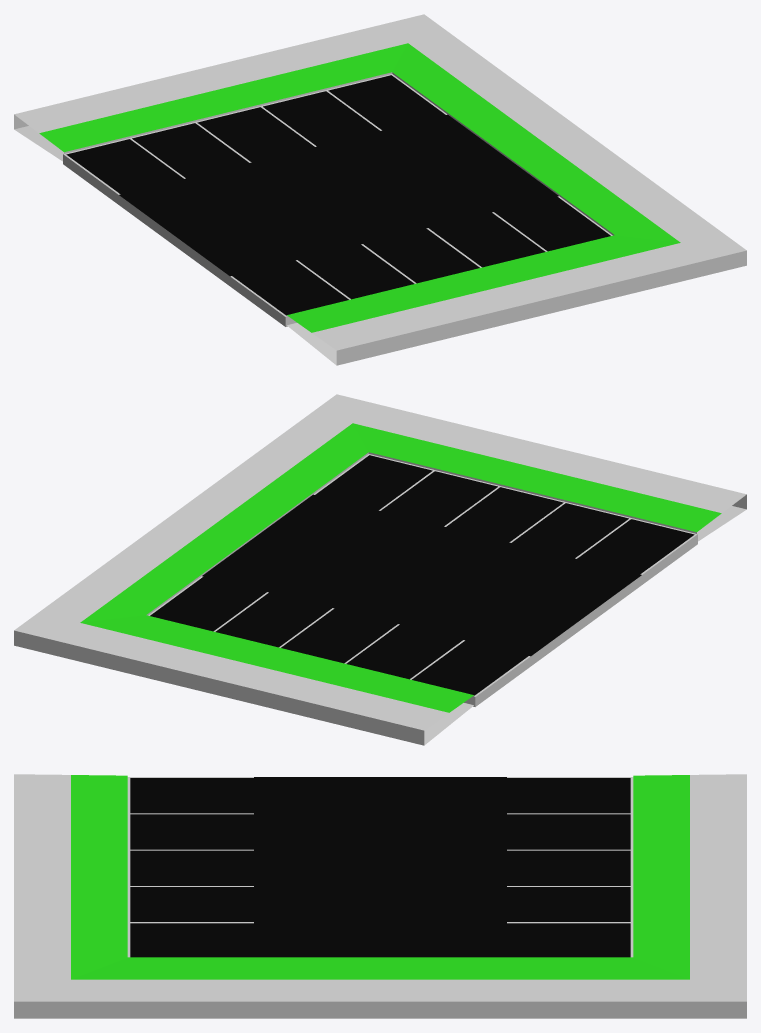
Rendered from parking Station22 (2).fbx.
3 renders of one model, top to bottom at view 1: azimuth 30°, elevation 25°; view 2: azimuth 150°, elevation 25°; view 3: azimuth 270°, elevation 25°, orthographic. The views are drawn at different scales.
Visible parts, largest first — view 1: Cube; view 2: Cube; view 3: Cube.
Part boxes in pixels (x1,y1,x2,y2): Cube: (14, 14, 746, 365); Cube: (14, 394, 746, 745); Cube: (14, 774, 746, 1018).
Size of the model in its own units: 2900 by 75 by 2133.
